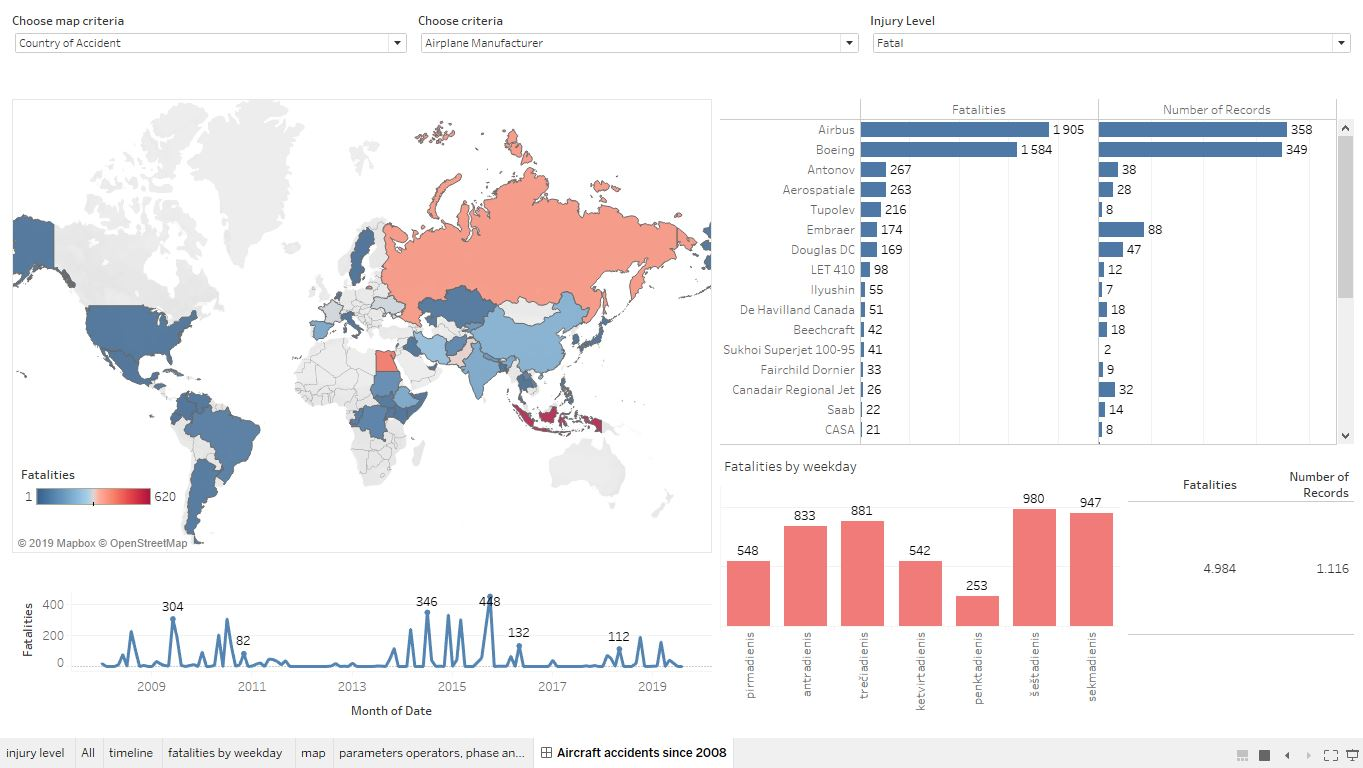

The dashboard page shown, as its layout file describes it:
{"tool":"tableau","page":{"name":"Aircraft accidents since 2008","canvas":[1000,1000],"units":"permille","ordinal":0},"visuals":[{"type":"parameter","param":"[Parameters].[StateOfOperator Parameter]","box":[6.9,13.5,296.7,97.5]},{"type":"parameter","param":"[Parameters].[FlightPhase Parameter]","box":[303.7,13.5,330.4,97.5]},{"type":"filter","title":"map","param":"[federated.0o74yxr05ey29018xvnp31xuxb5x].[none:InjuryLevel:nk]","box":[634,13.5,359,97.5]},{"type":"worksheet","title":"map","mark":"Automatic","box":[6.9,111.1,517.5,662.2]},{"type":"worksheet","title":"parameters operators, phase and manufacturer","mark":"Automatic","rows":["Calculation_151152115436969986"],"box":[524.4,111.1,468.6,496.9]},{"type":"worksheet","title":"fatalities by weekday","mark":"Bar","rows":["Fatalities"],"cols":["Date"],"box":[524.4,607.9,297.9,378.6]},{"type":"worksheet","title":"All","mark":"Automatic","box":[822.3,607.9,170.7,320.9]},{"type":"legend","title":"map","param":"[federated.0o74yxr05ey29018xvnp31xuxb5x].[sum:Fatalities:qk]","box":[15.1,631.8,117.2,104.7]},{"type":"worksheet","title":"timeline","mark":"Automatic","rows":["Fatalities"],"cols":["Date"],"box":[6.9,773.3,517.5,213.2]}]}

Visuals, with their boxes on the dashboard's canvas, which has no fixed pixel size, in thousandths of its width and height (x1, y1, x2, y2). These are canvas units, not pixel positions in the 1363x768 screenshot, which may show the page scaled, cropped or inside an application window:
parameter: 7 14 304 111
parameter: 304 14 634 111
"map" filter: 634 14 993 111
"map" worksheet: 7 111 524 773
"parameters operators, phase and manufacturer" worksheet: 524 111 993 608
"fatalities by weekday" worksheet (Bar marks): 524 608 822 986
"All" worksheet: 822 608 993 929
"map" legend: 15 632 132 736
"timeline" worksheet: 7 773 524 986
